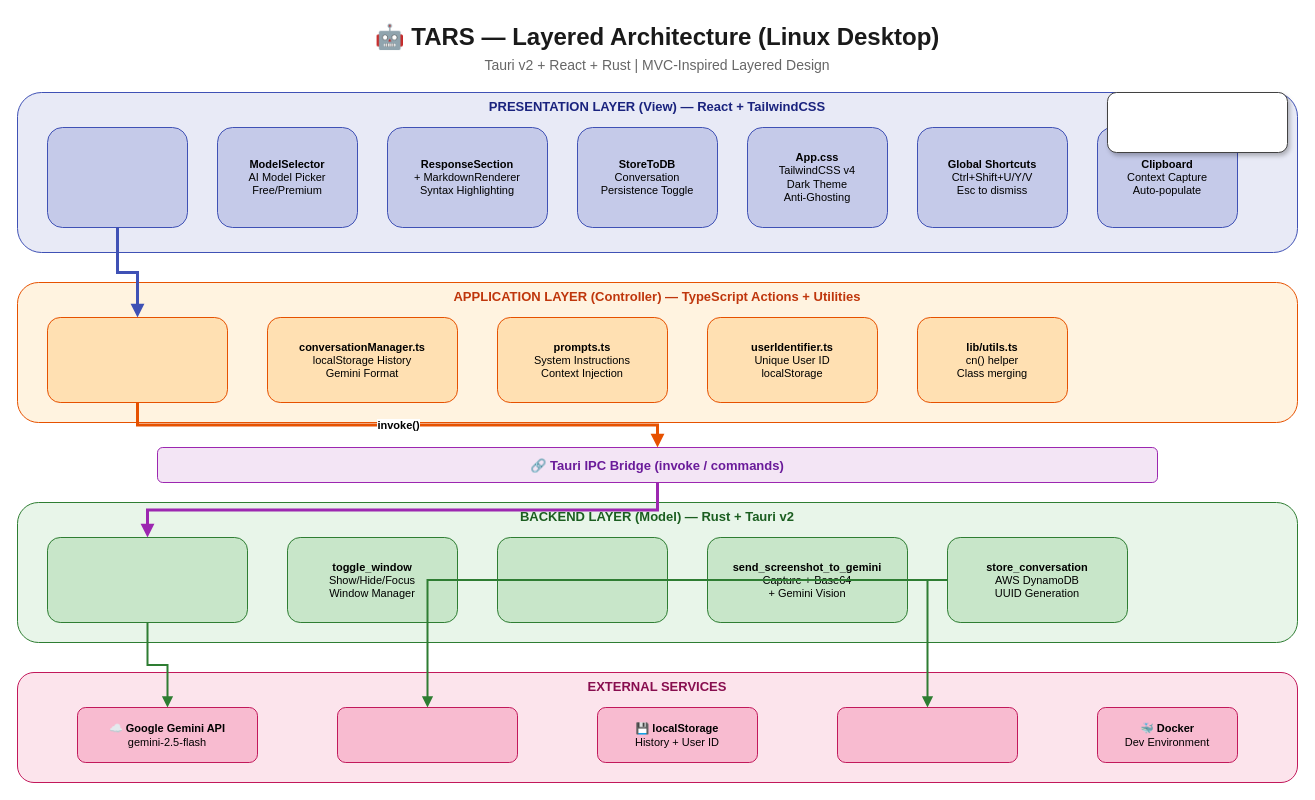
Image size: 1315x800. Some labels were removed from this diagram. The shapes that lost their labels are listed below. From the top down, each one's centre as x and y in pixels, then its label:
At pixel 1198 124: "DESIGN STYLE Layered + MVC-Inspired".
At pixel 117 177: "App.tsx Main Component State Management".
At pixel 137 359: "actions/llm.tsx Message Routing History Assembly".
At pixel 147 579: "send_message_to_gemini Gemini API Client JSON Request/Response".
At pixel 582 579: "take_screenshot xcap (Linux) PNG Encoding".
At pixel 427 734: "🗄️ AWS DynamoDB Conversation Storage".
At pixel 927 734: "🖥️ Linux OS X11/Wayland, Clipboard".
